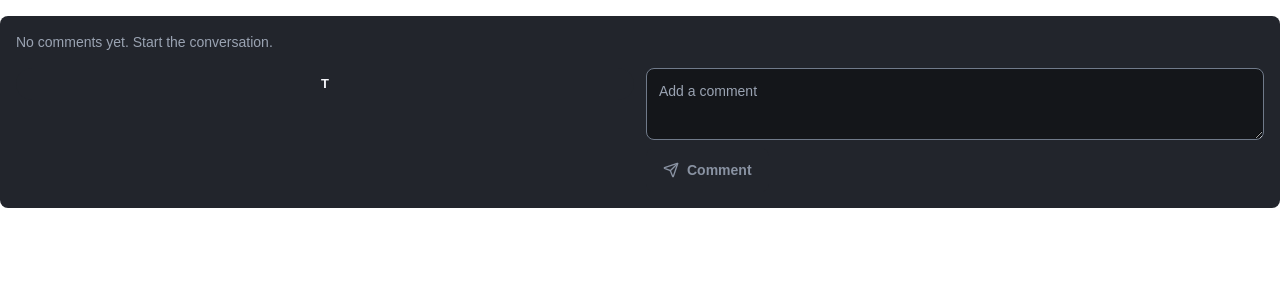
Test: comment thread keeps a failed draft and exposes the accessible submit control
The width and height of the screenshot is (1280, 281).
Type "This comment should be retained." into the text box labelled "Add a comment" at coordinates (955, 104), box [646,68,1264,140]
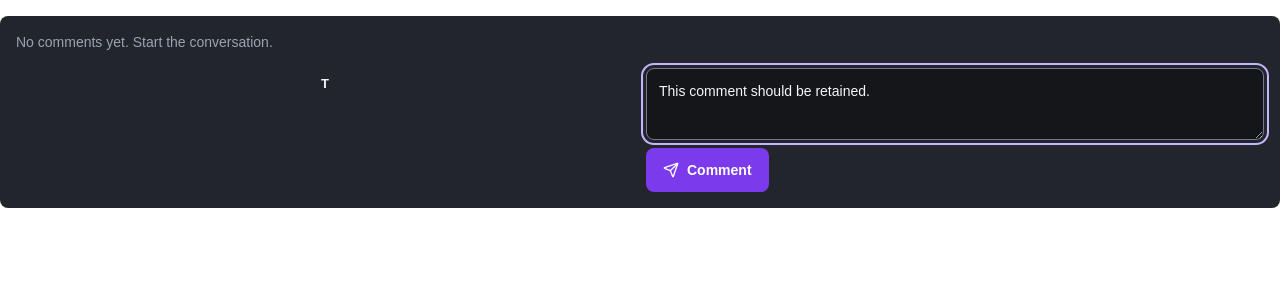
Click the button "Comment" at coordinates (707, 170), box [646,148,769,192]
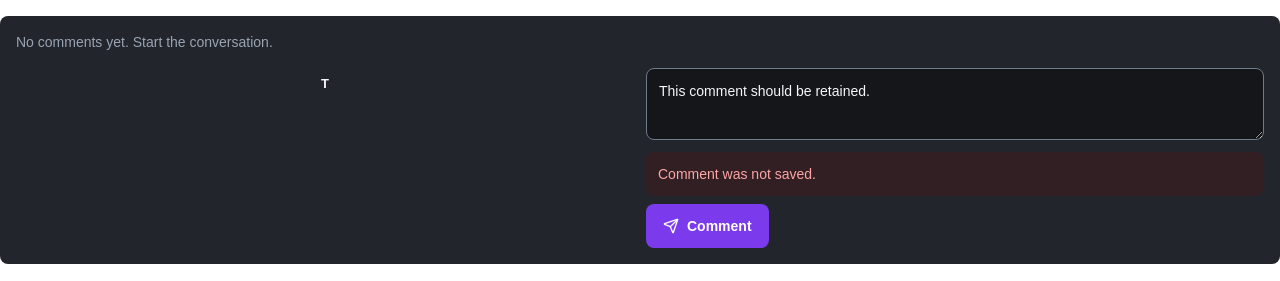
expect the message reads "Comment was not saved.": met, box [658,166,816,182]
